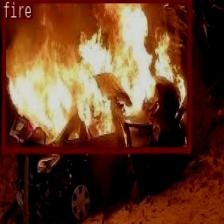fire: (1, 0, 190, 152)
